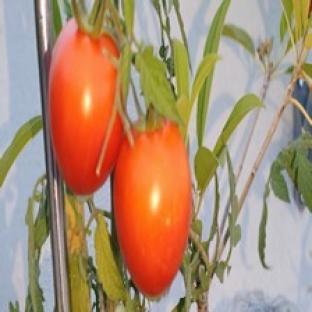Tomato: (113, 120, 190, 298), (49, 19, 122, 194)
